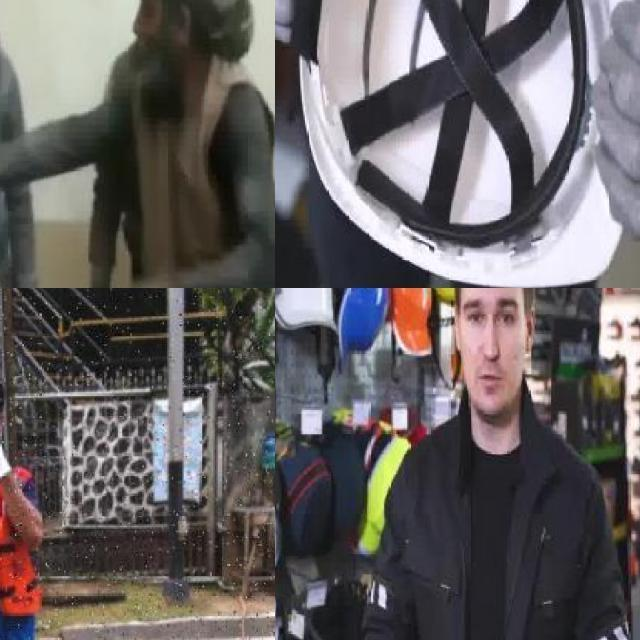apron: (585, 0, 640, 240), (0, 429, 12, 482)
